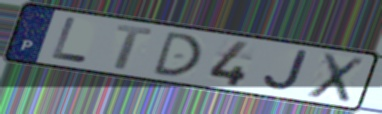4: (206, 39, 252, 88)
D: (149, 30, 204, 78)
J: (261, 49, 311, 94)
L: (49, 16, 91, 65)
T: (113, 24, 156, 72)
X: (304, 51, 368, 105)
